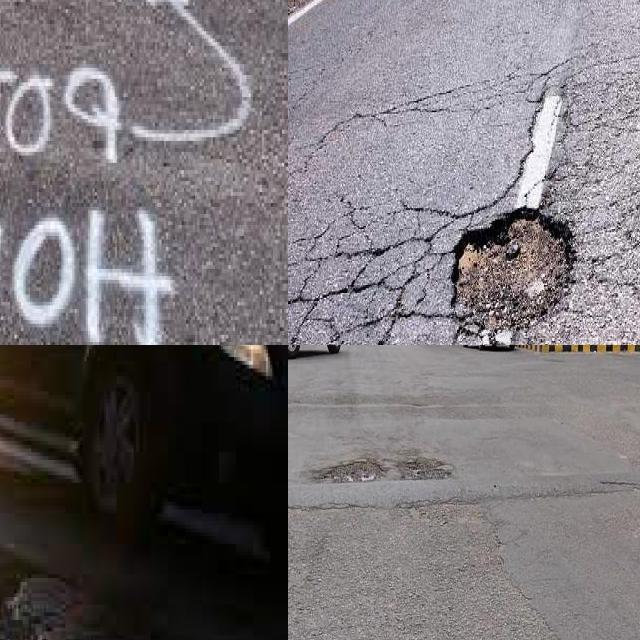Pothole: (451, 208, 574, 339), (456, 212, 570, 330), (0, 546, 28, 602), (319, 460, 387, 483), (396, 456, 451, 481), (526, 182, 543, 208)
Unmarked Bump: (288, 471, 640, 507)
